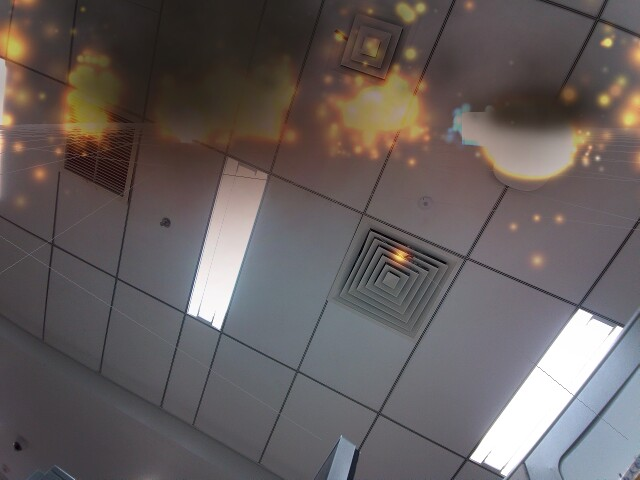fire: (489, 87, 569, 185), (160, 87, 220, 149)
